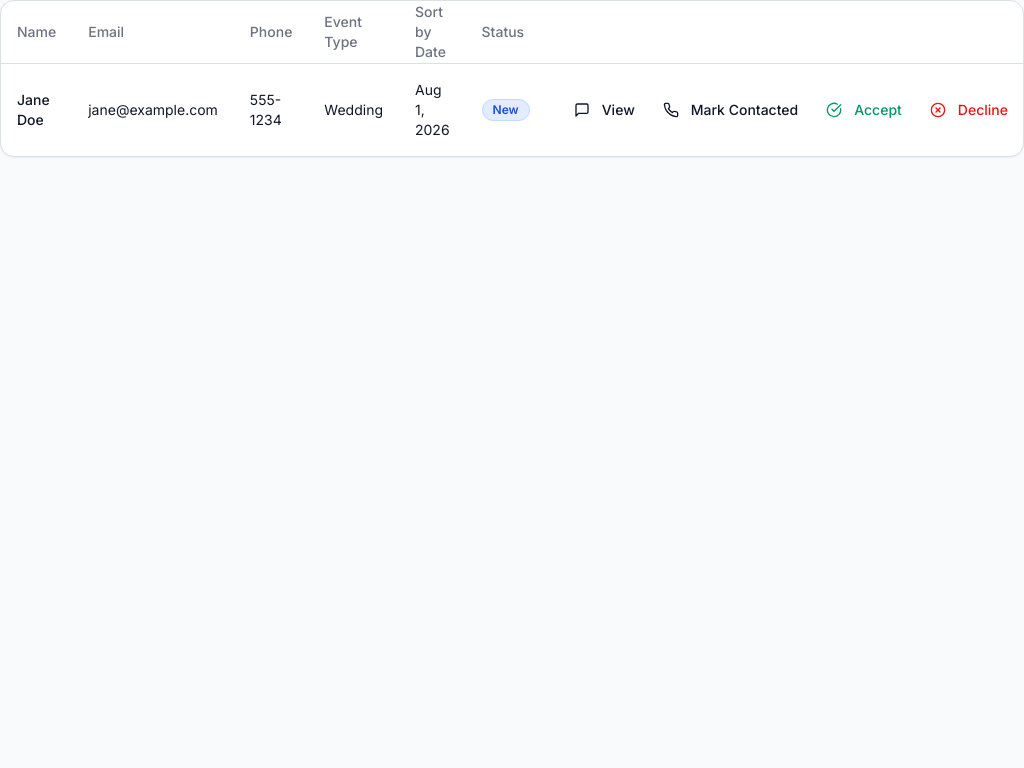
Test: BookingRequests › opens the view dialog for a request with a message and shows its details
Expected: the text "Jane Doe" is shown, [1,64,72,156]
Click the button "View": {"x": 604, "y": 110} [562,92,647,128]
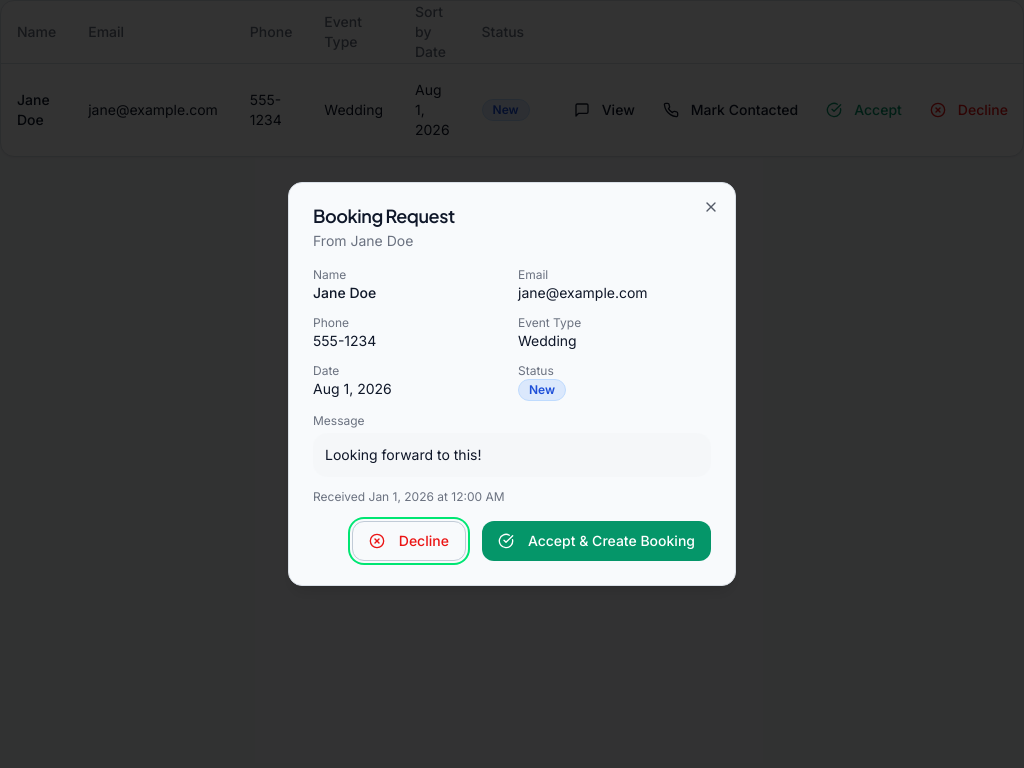
Now the text "Looking forward to this!" is shown, box [313,433,711,477]
Now the text "From Jane Doe" is shown, box [313,232,413,249]
